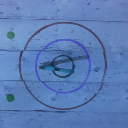Axe Tip: (43, 64, 56, 66)
